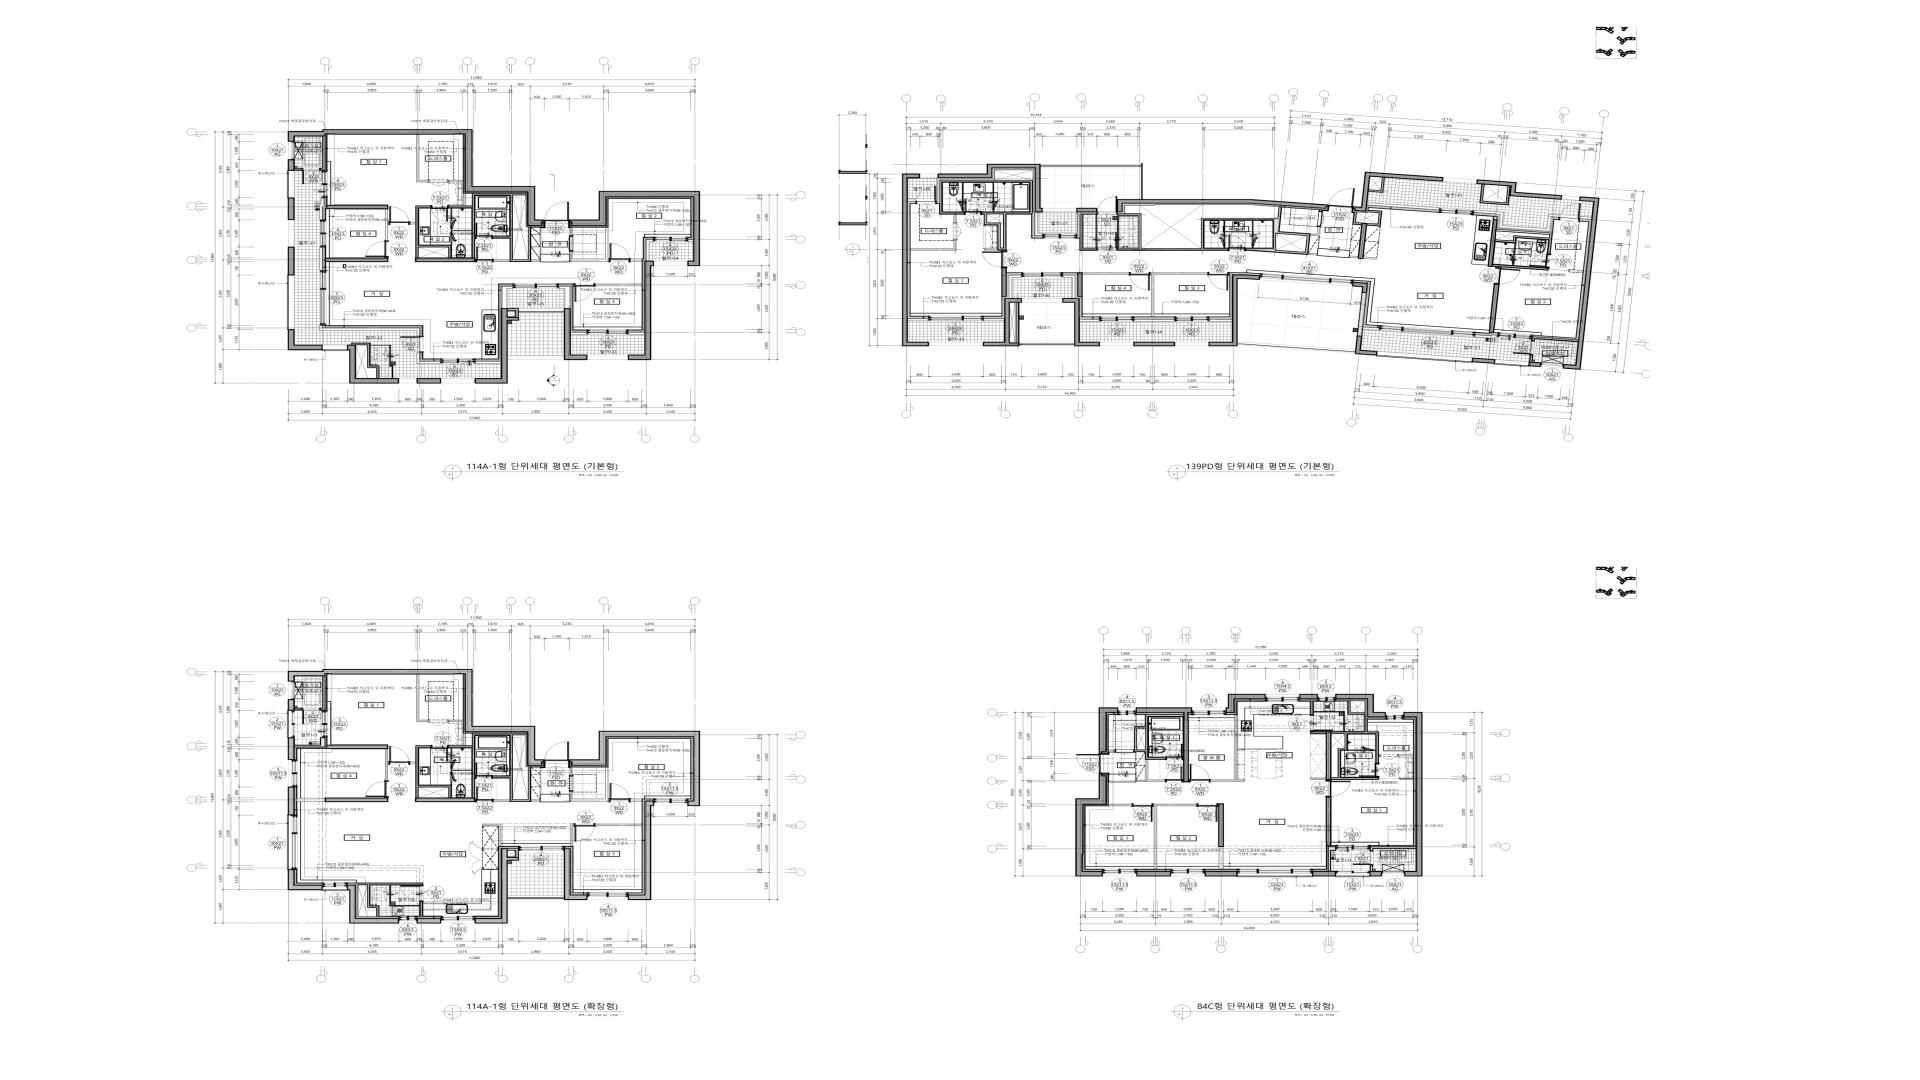door: (1328, 186, 1356, 214), (543, 742, 570, 769), (543, 203, 570, 228), (1076, 754, 1109, 774), (1494, 268, 1520, 286), (1325, 779, 1352, 798), (1559, 202, 1581, 222), (608, 783, 630, 803), (608, 243, 630, 262), (982, 251, 1007, 268), (1188, 764, 1211, 782), (388, 207, 410, 225), (1129, 272, 1151, 290), (365, 781, 389, 798), (1197, 803, 1218, 822), (388, 746, 409, 765), (574, 823, 595, 841), (1133, 803, 1154, 822), (574, 284, 595, 302), (915, 186, 936, 204), (1208, 272, 1229, 290), (1309, 715, 1333, 731), (400, 886, 423, 902), (400, 336, 423, 352), (365, 241, 389, 257), (1097, 232, 1117, 251), (1097, 196, 1117, 215), (1530, 252, 1552, 268), (1513, 340, 1535, 356), (475, 762, 493, 779), (302, 167, 320, 185), (1228, 235, 1246, 252), (1353, 851, 1374, 865), (431, 745, 448, 762), (1166, 766, 1183, 783), (1166, 744, 1183, 761), (302, 708, 320, 724), (475, 787, 493, 803), (475, 223, 493, 239), (475, 247, 493, 262), (964, 199, 982, 215), (431, 206, 448, 222), (1360, 764, 1379, 777), (953, 223, 961, 240), (429, 179, 448, 186), (1379, 754, 1399, 760), (1114, 749, 1134, 754), (429, 720, 448, 725)
wall: (287, 669, 543, 766), (287, 129, 543, 225), (1117, 207, 1320, 256), (570, 731, 700, 806), (570, 191, 700, 266), (939, 181, 1033, 251), (1563, 196, 1600, 371), (448, 733, 539, 802), (448, 194, 539, 262), (938, 164, 1043, 212), (902, 174, 930, 347), (1135, 707, 1192, 782), (1209, 274, 1261, 347), (1353, 171, 1444, 212), (1040, 165, 1143, 199), (475, 848, 520, 924), (475, 309, 520, 384), (1134, 715, 1183, 782), (1403, 712, 1423, 877), (1075, 774, 1106, 877), (1332, 719, 1379, 779), (1154, 804, 1197, 869), (1117, 199, 1328, 212), (628, 800, 654, 901), (628, 261, 654, 360), (1151, 273, 1208, 316), (1017, 303, 1075, 345), (1211, 715, 1245, 782), (409, 745, 452, 798), (359, 882, 423, 916), (410, 206, 452, 257), (347, 885, 400, 924), (347, 345, 400, 384), (982, 298, 1022, 347), (1474, 210, 1560, 232), (1477, 179, 1563, 200), (1063, 298, 1100, 347), (1495, 229, 1553, 253), (570, 767, 608, 802), (570, 228, 608, 262), (564, 848, 588, 901), (1238, 343, 1356, 353), (1336, 694, 1386, 717), (564, 309, 587, 360), (319, 326, 419, 336), (351, 343, 380, 378), (1357, 293, 1379, 336), (1098, 707, 1118, 754), (1225, 694, 1266, 713), (287, 869, 322, 890), (287, 330, 322, 351), (1480, 185, 1511, 206), (1080, 214, 1097, 251), (1367, 203, 1440, 211), (417, 675, 429, 723), (417, 135, 429, 182), (1487, 216, 1498, 266), (1489, 285, 1499, 334), (910, 240, 956, 251), (1356, 336, 1378, 356), (483, 824, 501, 847), (1493, 264, 1549, 270), (1358, 223, 1367, 258), (326, 257, 388, 262), (294, 737, 324, 748), (327, 204, 388, 210), (1325, 798, 1332, 845), (1325, 732, 1332, 779), (415, 257, 475, 262), (1532, 336, 1578, 343), (1009, 276, 1022, 298), (501, 286, 513, 309), (1063, 276, 1075, 298), (324, 798, 388, 802), (417, 353, 440, 364), (1367, 210, 1382, 227), (326, 745, 388, 749), (559, 286, 570, 309), (415, 798, 475, 802), (1218, 803, 1224, 847), (1369, 178, 1385, 193), (1348, 702, 1365, 715), (508, 895, 563, 899), (1134, 342, 1175, 347), (1328, 847, 1336, 872), (1001, 268, 1007, 297), (287, 247, 294, 276), (1035, 212, 1043, 236), (1370, 847, 1416, 851), (287, 787, 294, 815), (320, 676, 326, 711), (1137, 872, 1171, 877), (1205, 872, 1238, 877), (320, 137, 326, 170), (1353, 282, 1369, 293), (1472, 357, 1495, 364), (287, 737, 294, 760), (287, 198, 294, 220), (646, 240, 653, 261), (417, 918, 442, 923), (417, 378, 442, 384), (1312, 872, 1336, 877), (1077, 273, 1083, 297), (595, 284, 642, 286), (1353, 212, 1362, 225), (1083, 273, 1129, 276), (1218, 847, 1224, 869), (319, 198, 324, 220), (297, 798, 324, 802), (1134, 319, 1175, 322), (508, 848, 518, 857), (1299, 694, 1317, 699), (508, 309, 518, 318), (319, 247, 323, 270), (1476, 335, 1498, 339), (1076, 208, 1097, 212), (385, 749, 388, 781), (385, 210, 388, 241), (287, 699, 294, 711), (287, 160, 294, 171), (1528, 361, 1542, 367), (475, 361, 501, 364), (1370, 872, 1382, 877), (595, 824, 642, 825), (571, 824, 574, 847), (1209, 319, 1232, 322), (419, 902, 423, 916), (907, 319, 928, 322), (1080, 319, 1100, 322), (984, 319, 1004, 322), (630, 258, 642, 262), (1580, 216, 1592, 220), (571, 332, 587, 335), (448, 720, 463, 723), (1311, 700, 1313, 715), (1311, 732, 1325, 735), (1364, 257, 1377, 260), (630, 799, 642, 802), (1109, 804, 1133, 806), (1530, 355, 1534, 363), (1349, 256, 1358, 258), (953, 215, 956, 223), (1109, 749, 1114, 753), (570, 767, 572, 775), (570, 228, 572, 236), (294, 167, 302, 170), (1399, 754, 1414, 756), (1311, 778, 1325, 779), (1399, 778, 1414, 779), (448, 181, 463, 182), (909, 199, 915, 202), (1370, 865, 1373, 872), (295, 708, 302, 711), (688, 240, 694, 243)
window: (1261, 273, 1353, 286), (1379, 326, 1476, 338), (1377, 352, 1472, 363), (286, 815, 298, 869), (1238, 869, 1312, 877), (286, 276, 294, 330), (518, 845, 564, 853), (928, 315, 984, 322), (1439, 207, 1474, 216), (320, 270, 326, 326), (1498, 332, 1532, 340), (587, 893, 628, 899), (654, 798, 687, 806), (1192, 708, 1225, 716), (289, 760, 298, 787), (286, 711, 295, 737), (513, 284, 559, 289), (518, 309, 563, 314), (1102, 869, 1137, 876), (1336, 870, 1370, 877), (323, 882, 347, 891), (508, 356, 563, 360), (1495, 360, 1528, 367), (442, 916, 475, 923), (1171, 869, 1204, 876), (1266, 695, 1299, 702), (1022, 272, 1063, 277), (587, 355, 628, 360), (587, 330, 628, 335), (286, 171, 294, 198), (1443, 178, 1477, 183), (1175, 316, 1209, 322), (1100, 316, 1134, 322), (1043, 233, 1077, 239), (440, 359, 475, 364), (320, 711, 327, 737), (442, 378, 475, 384), (654, 261, 687, 266), (1022, 298, 1063, 302), (653, 237, 688, 241), (320, 220, 326, 247), (322, 171, 327, 198), (930, 343, 982, 345), (289, 220, 294, 247), (1118, 708, 1135, 716), (1336, 845, 1370, 849), (322, 345, 347, 351), (1100, 342, 1133, 345), (1043, 208, 1076, 212), (1317, 695, 1336, 702), (1542, 363, 1564, 368), (1382, 870, 1404, 876), (400, 916, 417, 923), (1561, 195, 1580, 200), (289, 682, 294, 699), (289, 142, 294, 160), (400, 378, 417, 384), (1386, 715, 1403, 720), (1175, 343, 1208, 345), (920, 174, 938, 178)
